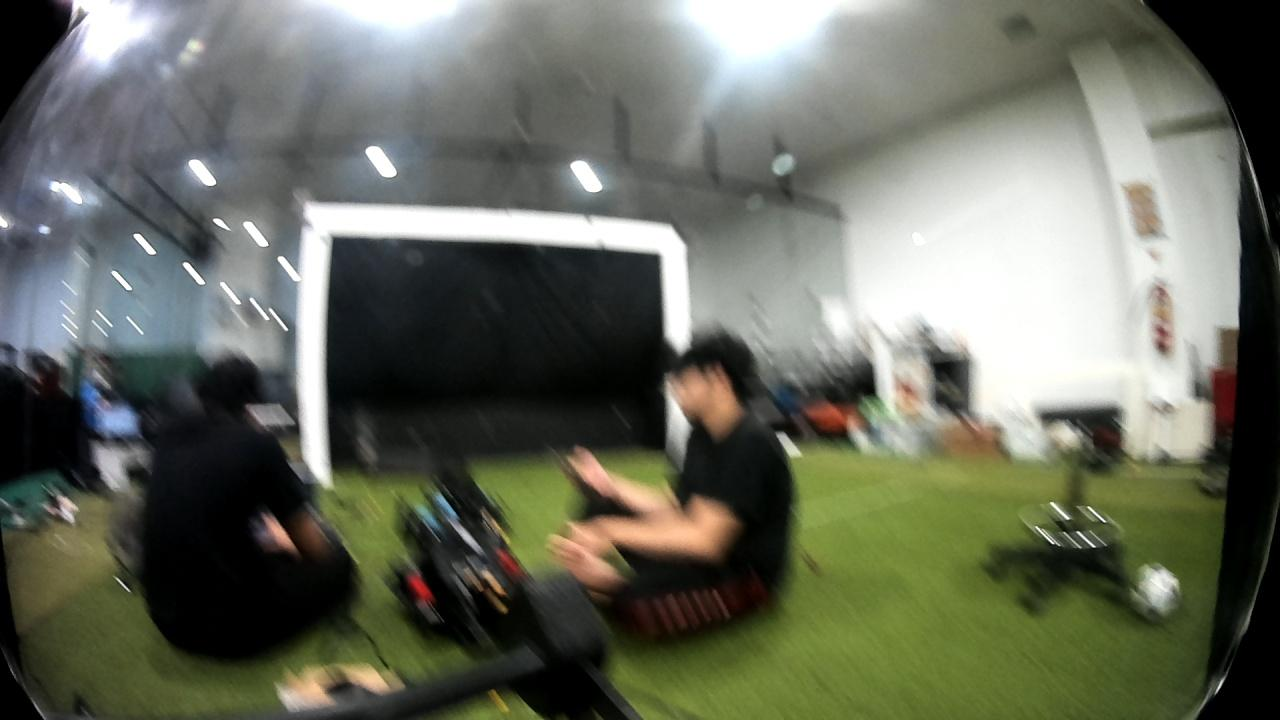ball: (1124, 557, 1183, 629)
